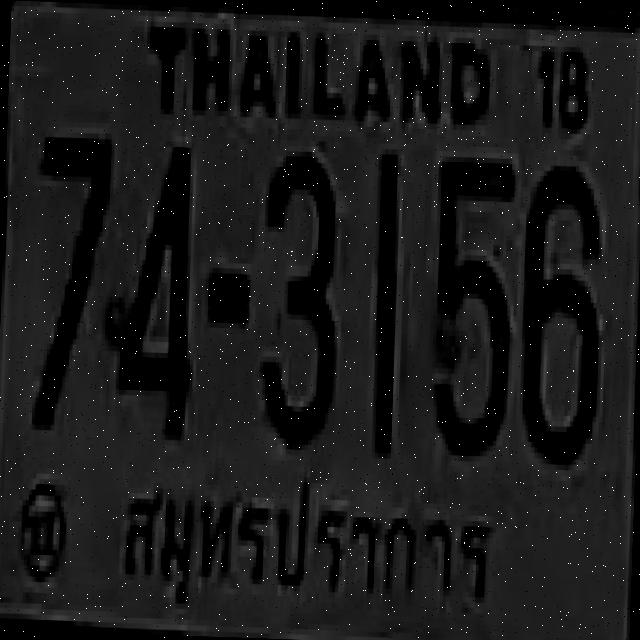1: (366, 151, 402, 455)
3: (257, 150, 340, 445)
4: (104, 139, 197, 435)
5: (428, 151, 515, 457)
6: (514, 159, 604, 465)
7: (30, 132, 113, 426)
SamutPrakan: (103, 457, 505, 640)
